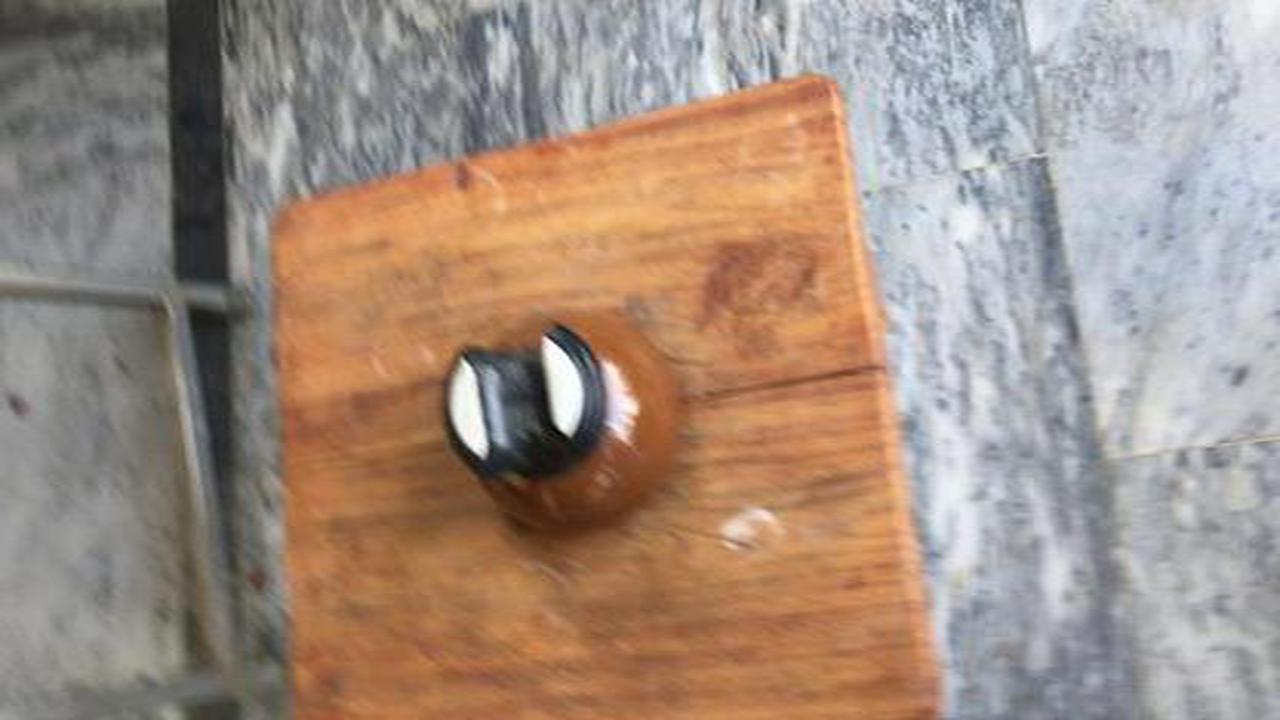insulator_pin: (410, 296, 705, 546)
